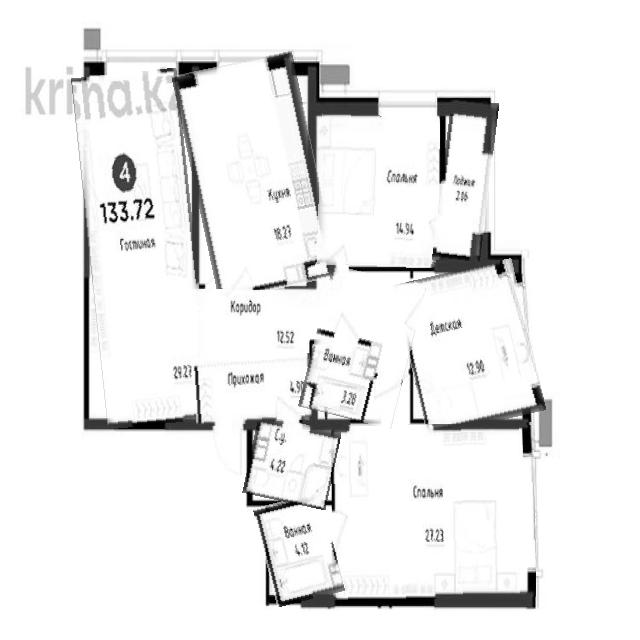balcony: (437, 99, 495, 265)
bathroom: (306, 270, 418, 424), (258, 495, 339, 604), (245, 419, 338, 507)
hallway: (193, 355, 313, 425), (195, 290, 310, 359)
kitchen: (183, 56, 328, 296)
living_room: (80, 70, 204, 427), (331, 423, 536, 600), (401, 264, 539, 431), (318, 114, 439, 267)
